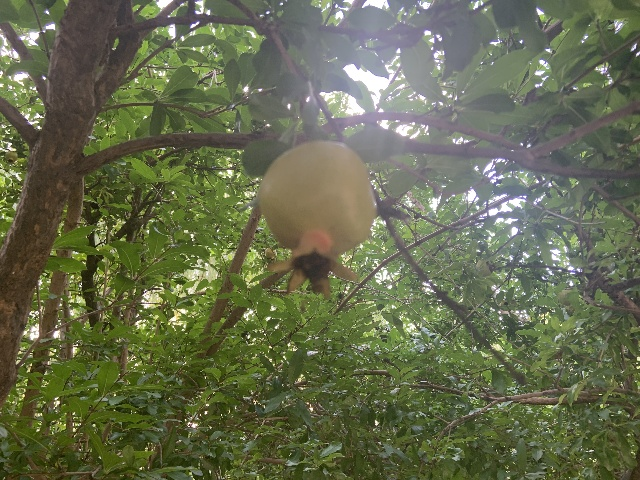mid-growth: (255, 140, 377, 300)
